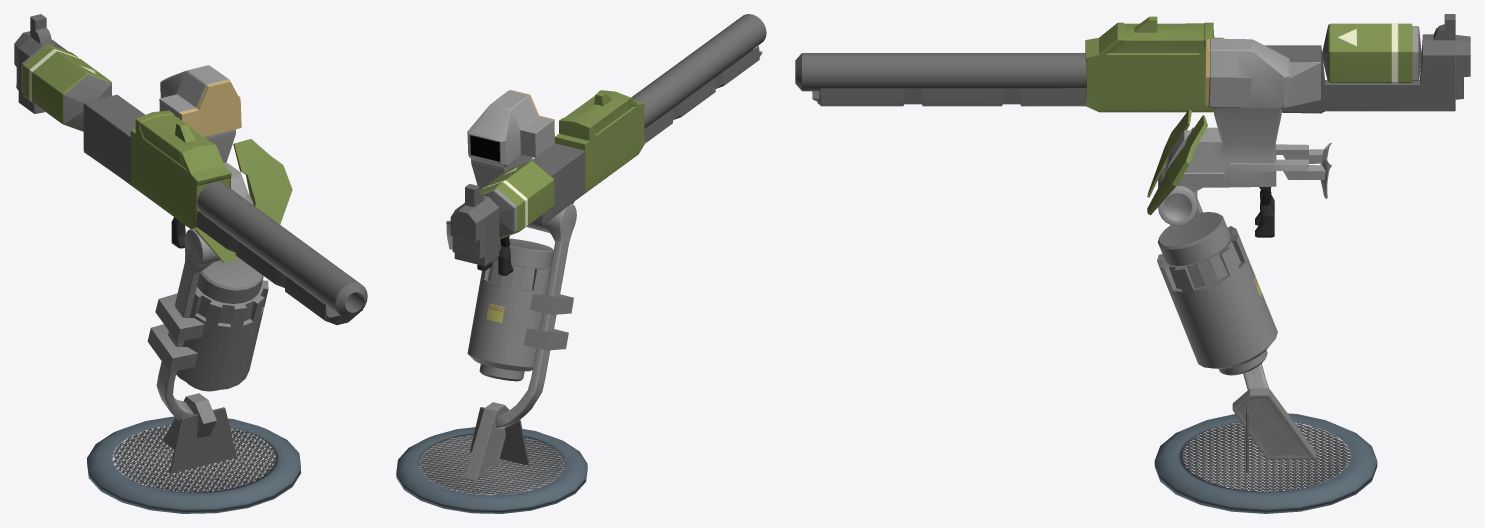
File: Tarret02.fbx
The picture shows the model from 3 angles, left to right: view 1: azimuth 30°, elevation 25°; view 2: azimuth 150°, elevation 25°; view 3: azimuth 270°, elevation 25°; orthographic projection. The views are drawn at different scales.
Visible parts, largest first — view 1: muzzleFrame, TarretBase_Main, tank, muzzle, magazine, BaseArm1, aboveBase02, aboveBase01; view 2: muzzleFrame, TarretBase_Main, tank, muzzle, magazine, BaseArm1, aboveBase01, aboveBase02, handle1; view 3: muzzleFrame, TarretBase_Main, tank, muzzle, magazine, aboveBase01, BaseArm1.
Boxes of the visible parts, x1=… form: muzzleFrame: x1=14, y1=14, x2=362, y2=324; TarretBase_Main: x1=87, y1=416, x2=300, y2=513; tank: x1=147, y1=256, x2=268, y2=391; muzzle: x1=197, y1=181, x2=367, y2=317; magazine: x1=21, y1=44, x2=111, y2=131; BaseArm1: x1=156, y1=229, x2=237, y2=420; aboveBase02: x1=169, y1=407, x2=236, y2=473; aboveBase01: x1=163, y1=393, x2=216, y2=449; muzzleFrame: x1=446, y1=46, x2=762, y2=266; TarretBase_Main: x1=396, y1=427, x2=587, y2=513; tank: x1=467, y1=238, x2=573, y2=381; muzzle: x1=631, y1=14, x2=766, y2=128; magazine: x1=479, y1=161, x2=554, y2=239; BaseArm1: x1=495, y1=204, x2=576, y2=428; aboveBase01: x1=464, y1=402, x2=509, y2=481; aboveBase02: x1=470, y1=407, x2=529, y2=465; handle1: x1=498, y1=235, x2=513, y2=275; muzzleFrame: x1=812, y1=14, x2=1470, y2=215; TarretBase_Main: x1=1154, y1=413, x2=1377, y2=513; tank: x1=1157, y1=212, x2=1277, y2=375; muzzle: x1=795, y1=53, x2=1086, y2=91; magazine: x1=1322, y1=23, x2=1421, y2=83; aboveBase01: x1=1232, y1=388, x2=1316, y2=459; BaseArm1: x1=1158, y1=168, x2=1268, y2=389.
Bounding box in the file's own units: 83.34 × 167 × 243.
